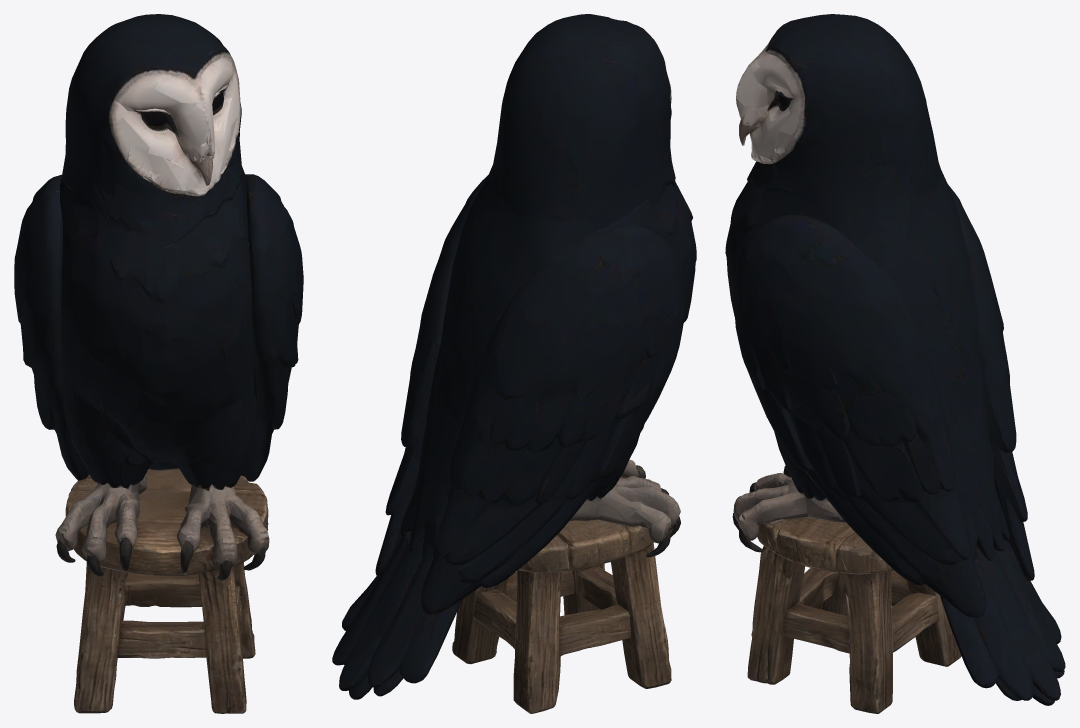
The model's file is wanshitong.glb.
3 renders of one model, left to right at view 1: azimuth 30°, elevation 25°; view 2: azimuth 150°, elevation 25°; view 3: azimuth 270°, elevation 25°, orthographic. The views are drawn at different scales.
Visible parts, largest first — view 1: Mesh_0; view 2: Mesh_0; view 3: Mesh_0.
Part boxes in pixels (<box>): Mesh_0: <box>14,14,303,713</box>; Mesh_0: <box>332,14,696,713</box>; Mesh_0: <box>725,14,1065,713</box>.
Bounding box in the file's own units: 0.868 × 1.9 × 0.9237.
1 material, 1 textured.
